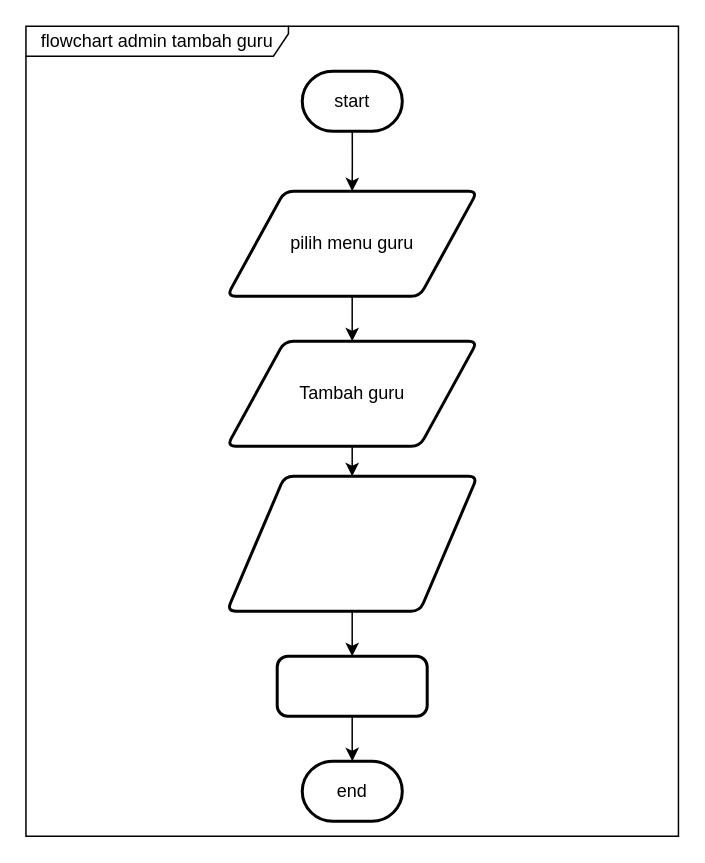
The diagram is 705 pixels wide and 863 high, and some of its shapes have lost their labels. Here are the shapes that lost their labels. From the top down, the centre of each, then its label:
At point 351,543: "Input : nip,nama, jeniskelamin, username dan password".
At point 351,685: "Insert data staff".
